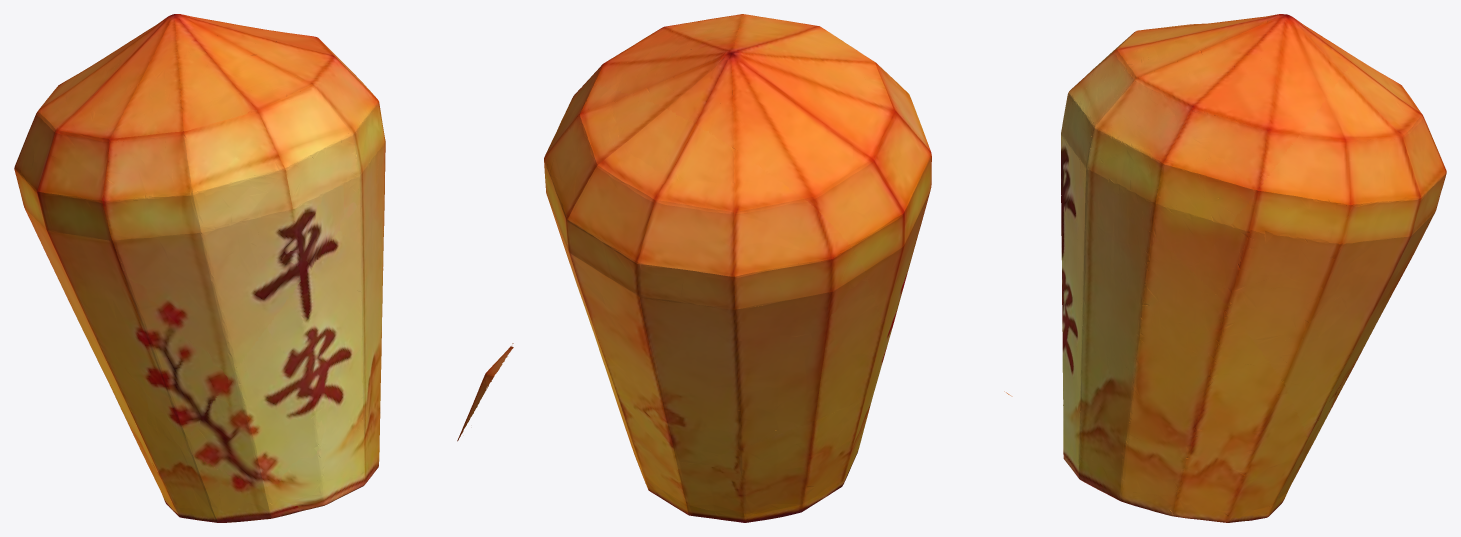
File: sky-binhan.glb
3 views of the same model, side by side, from view 1: azimuth 30°, elevation 25°; view 2: azimuth 150°, elevation 25°; view 3: azimuth 270°, elevation 25° (orthographic). The views are drawn at different scales.
Visible parts, largest first — view 1: sky_src.glb; view 2: sky_src.glb; view 3: sky_src.glb.
Boxes of the visible parts, box(x1,y1,x2,y2) form: sky_src.glb: box(14, 14, 513, 522); sky_src.glb: box(544, 14, 931, 522); sky_src.glb: box(1004, 14, 1446, 522).
Bounding box in the file's own units: 0.3119 × 0.3635 × 0.3428.
Materials: 1 (1 with a texture image).
